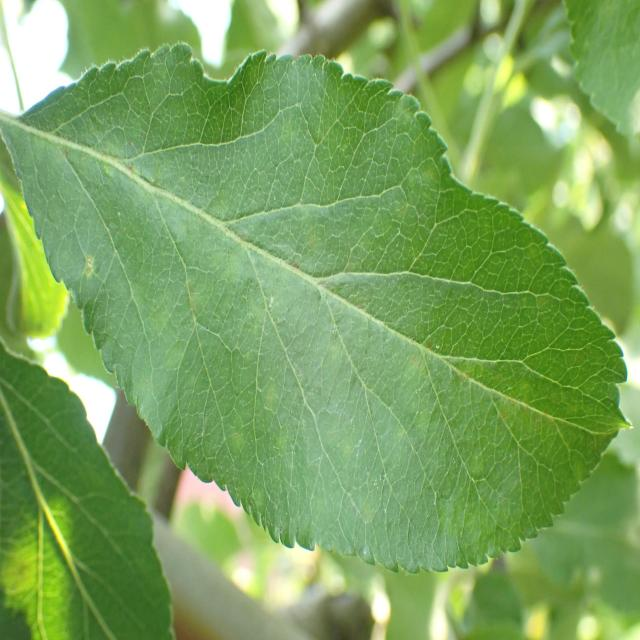scab: (60, 119, 591, 490)
